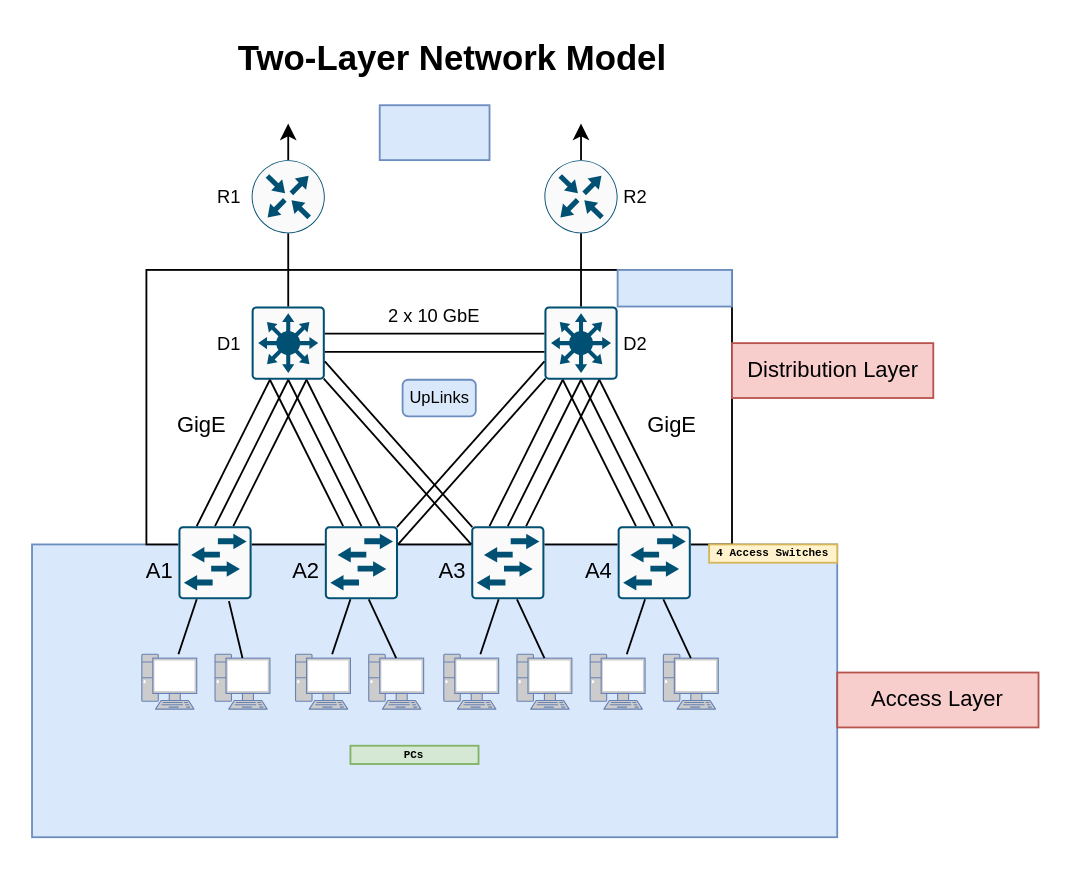
Image size: 1071x869. Some labels were removed from this diagram. The centre of each missing label's shape, as x and y in pixels:
"2 Distribution Switches" goes at pixel 674 287.
"To Wan" goes at pixel 434 131.
